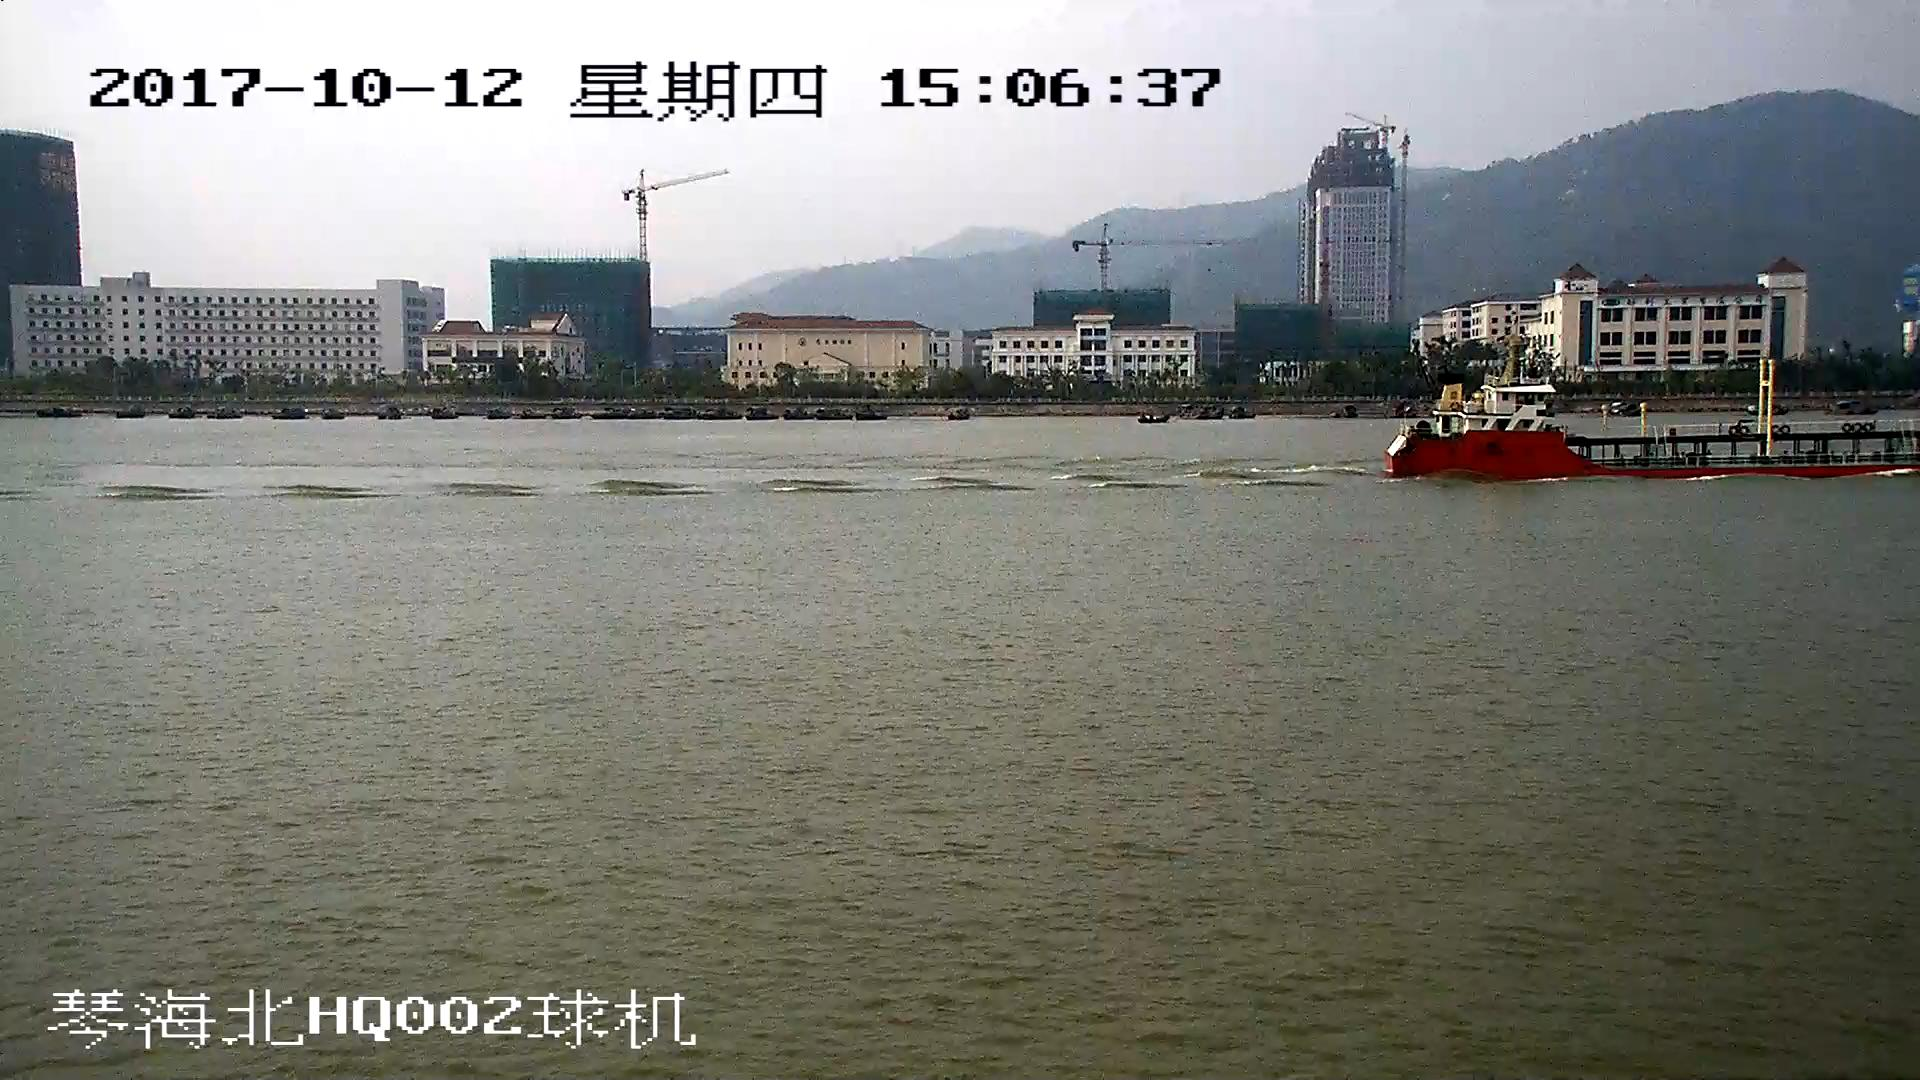general cargo ship: (1388, 356, 1920, 486)
